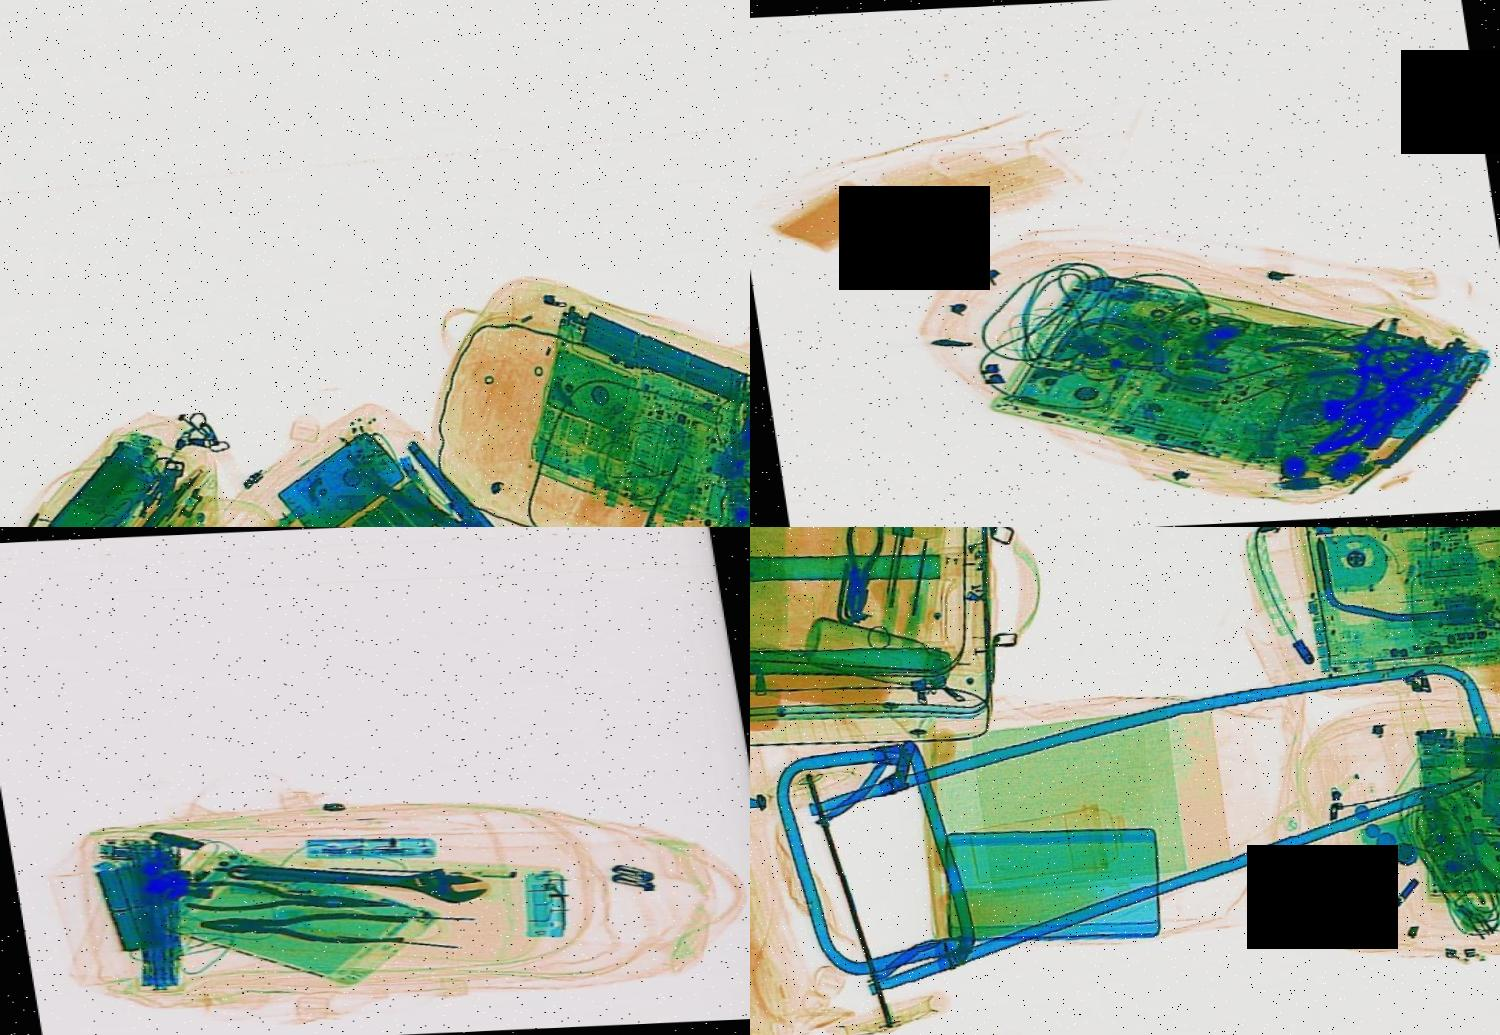Pliers: (1252, 294, 1446, 416), (369, 425, 530, 527), (177, 869, 403, 928), (194, 897, 415, 953), (818, 527, 903, 622)
Wrench: (218, 838, 494, 916)
